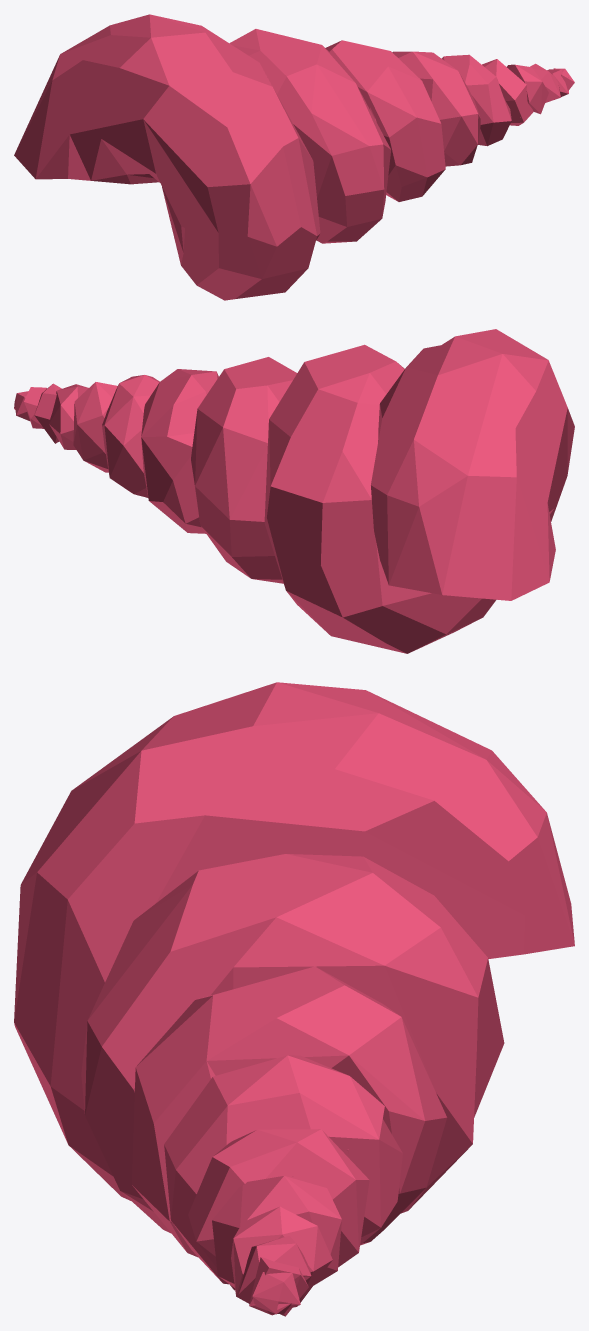
The picture shows the model from 3 angles, top to bottom: view 1: azimuth 30°, elevation 25°; view 2: azimuth 150°, elevation 25°; view 3: azimuth 270°, elevation 25°; orthographic projection. The views are drawn at different scales.
Visible parts, largest first — view 1: shadeBeige.001; view 2: shadeBeige.001; view 3: shadeBeige.001.
Part boxes in pixels (box(x1,y1,x2,y2)): shadeBeige.001: box(14, 14, 574, 300); shadeBeige.001: box(14, 329, 574, 653); shadeBeige.001: box(14, 682, 574, 1316).
Bounding box in the file's own units: 0.7058 × 0.3597 × 0.3865.
